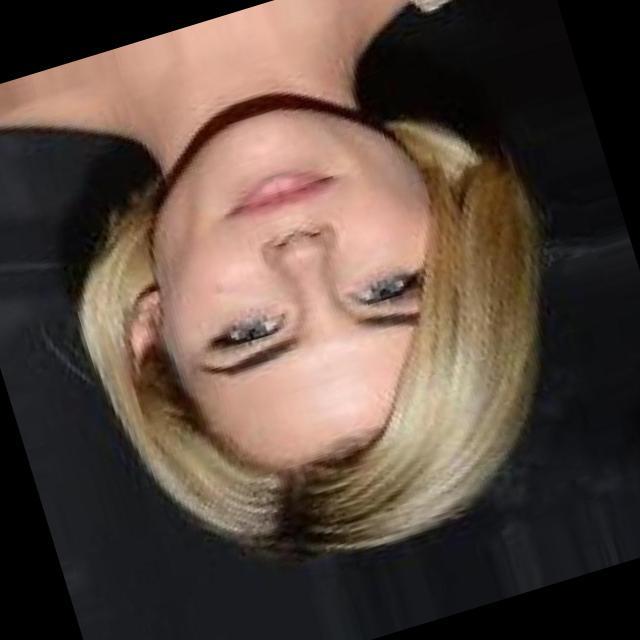bareface: (93, 83, 580, 556)
